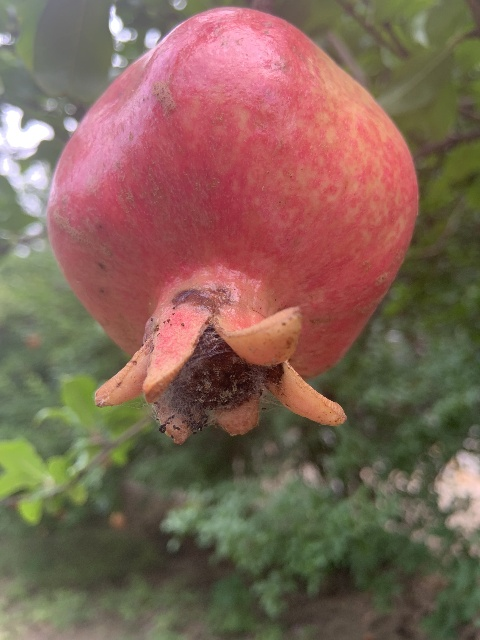ripe: (46, 6, 420, 442)
